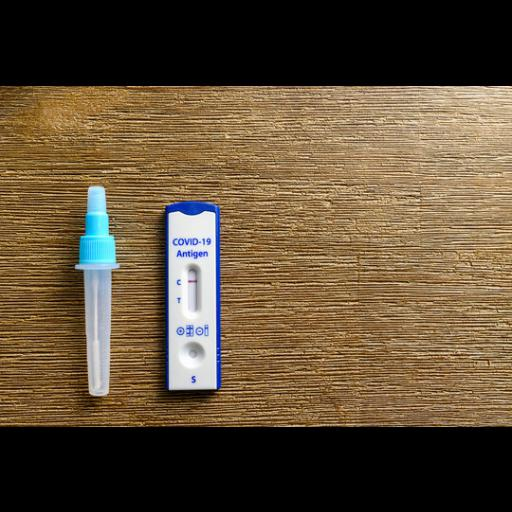Neg: (164, 202, 218, 390)
